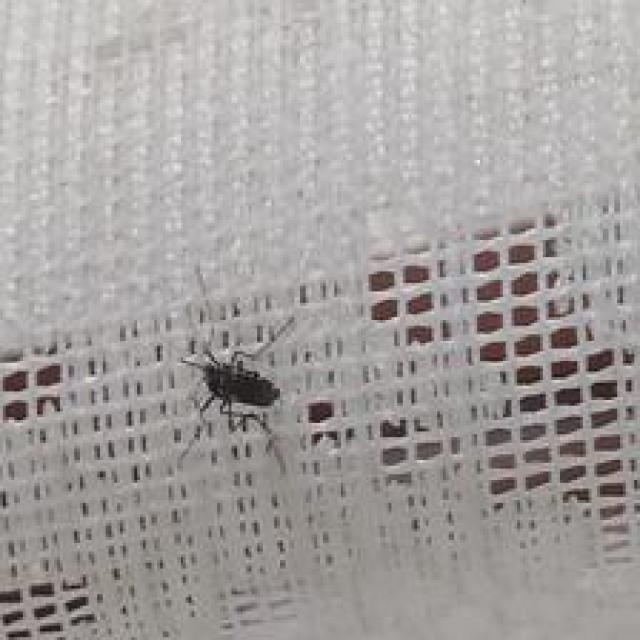Aedes albopictus: (174, 314, 297, 474)
